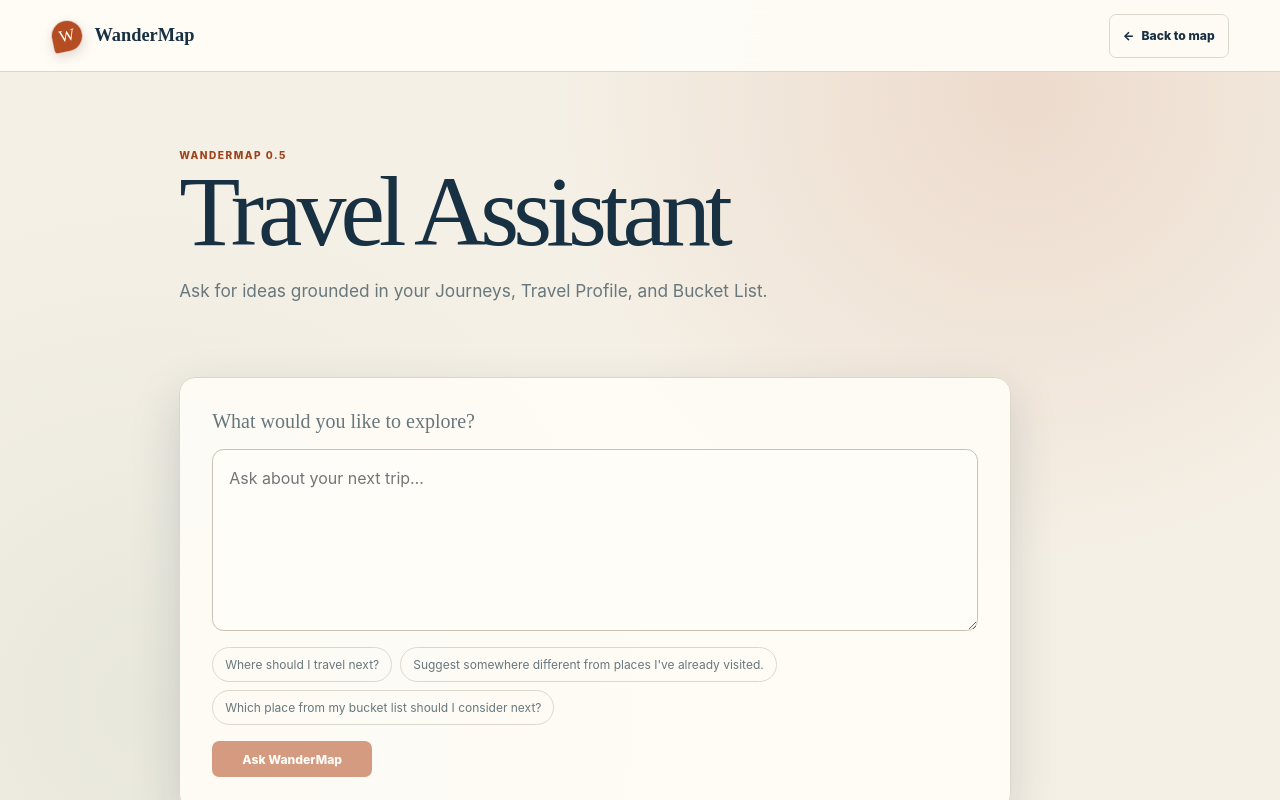
Test: TravelAssistantView › shows a recoverable provider error
Type "Where next?" into the text box labelled "What would you like to explore?" at [595, 540], box [212,449,978,632]
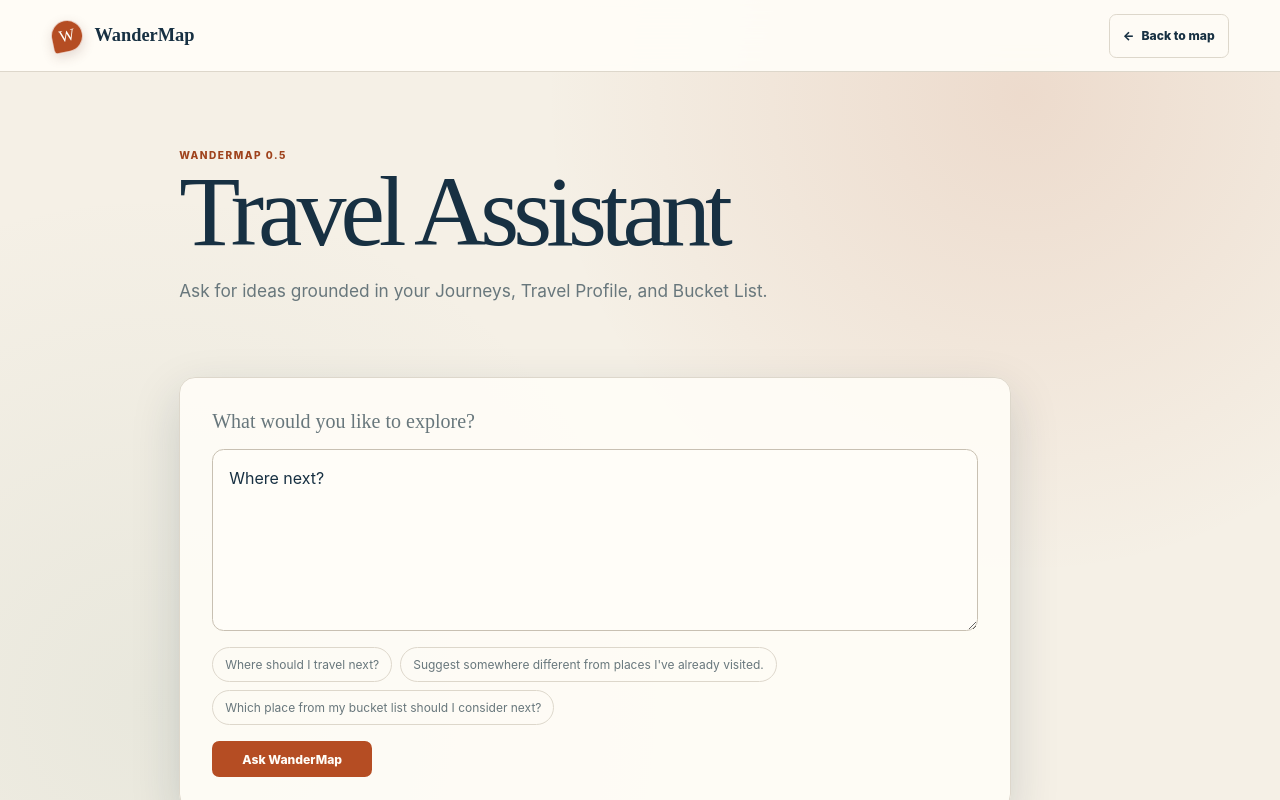
Click the button "Ask WanderMap" at [292, 759], box [212,741,372,778]
(page scrolled)
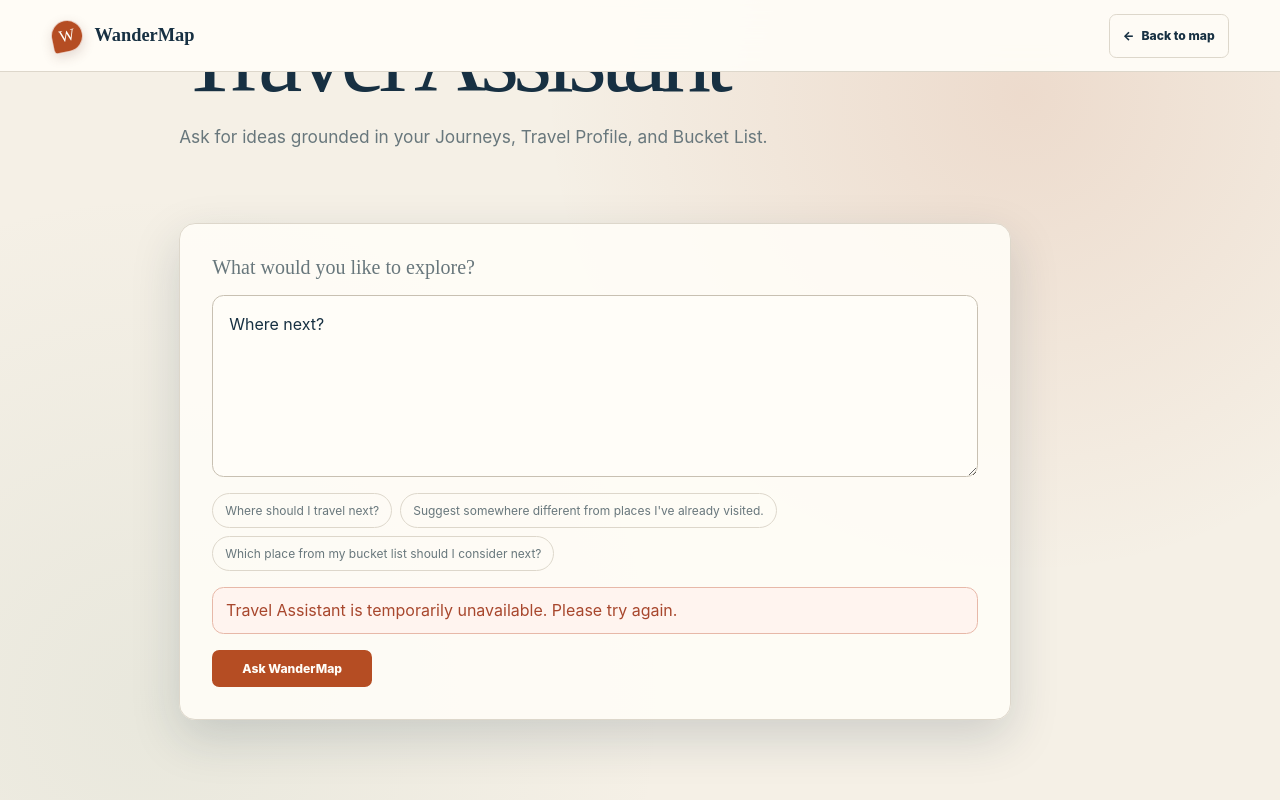
Expected: the button "Ask WanderMap" is shown, [212,650,372,687]
Expected: the message shows "temporarily unavailable", [226,600,677,620]
